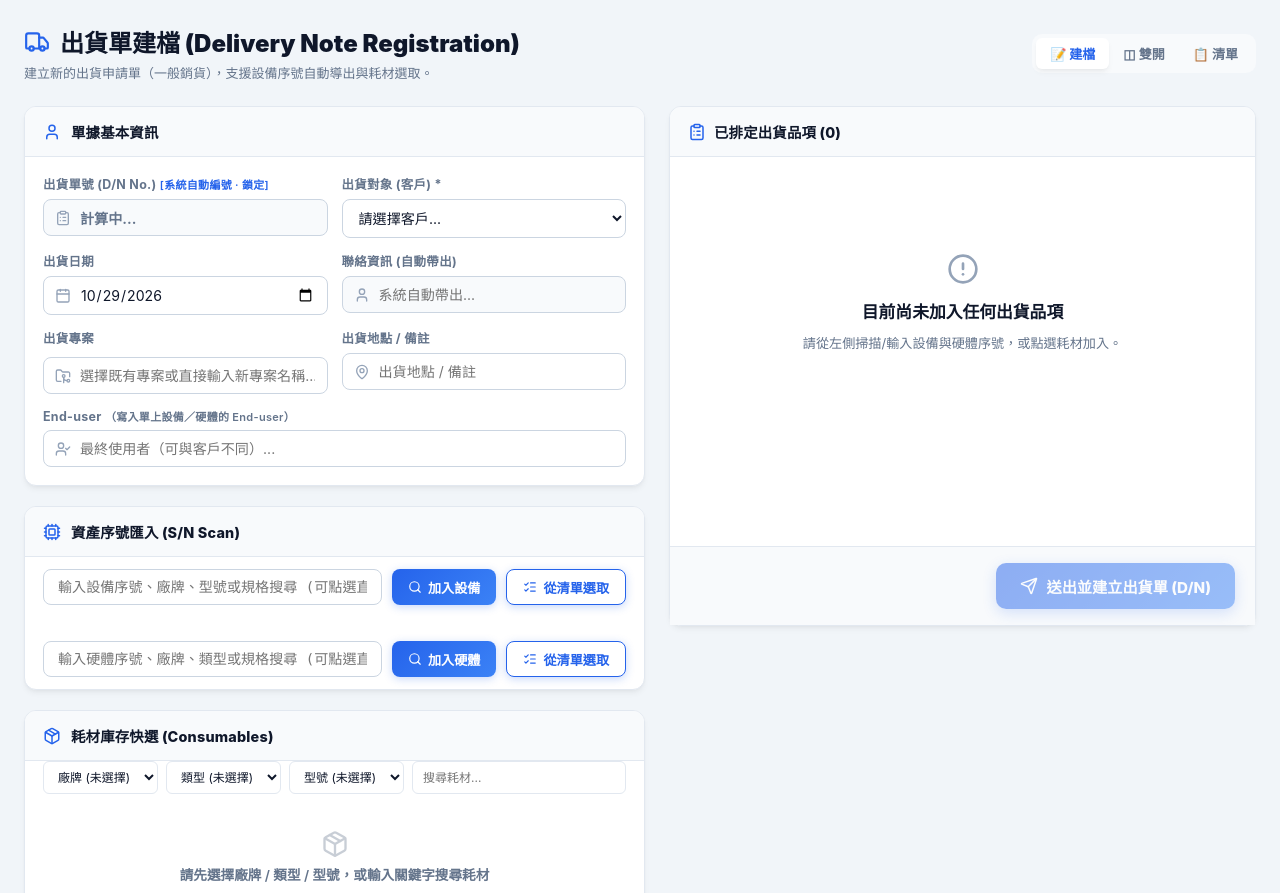
Test: Outbound 出貨時自動立案與設備專案屬性回寫功能測試 › 1. 出貨單專案欄位應支援自訂輸入新專案名稱並顯示提示標籤
Expected: the text "出貨專案" is shown, [43,329,94,347]
# 輸入一個全新專案名稱
In the field with placeholder "選擇既有專案或直接輸入新專案名稱...": point(185, 376) [43,357,328,394], type "全新高鐵專案"
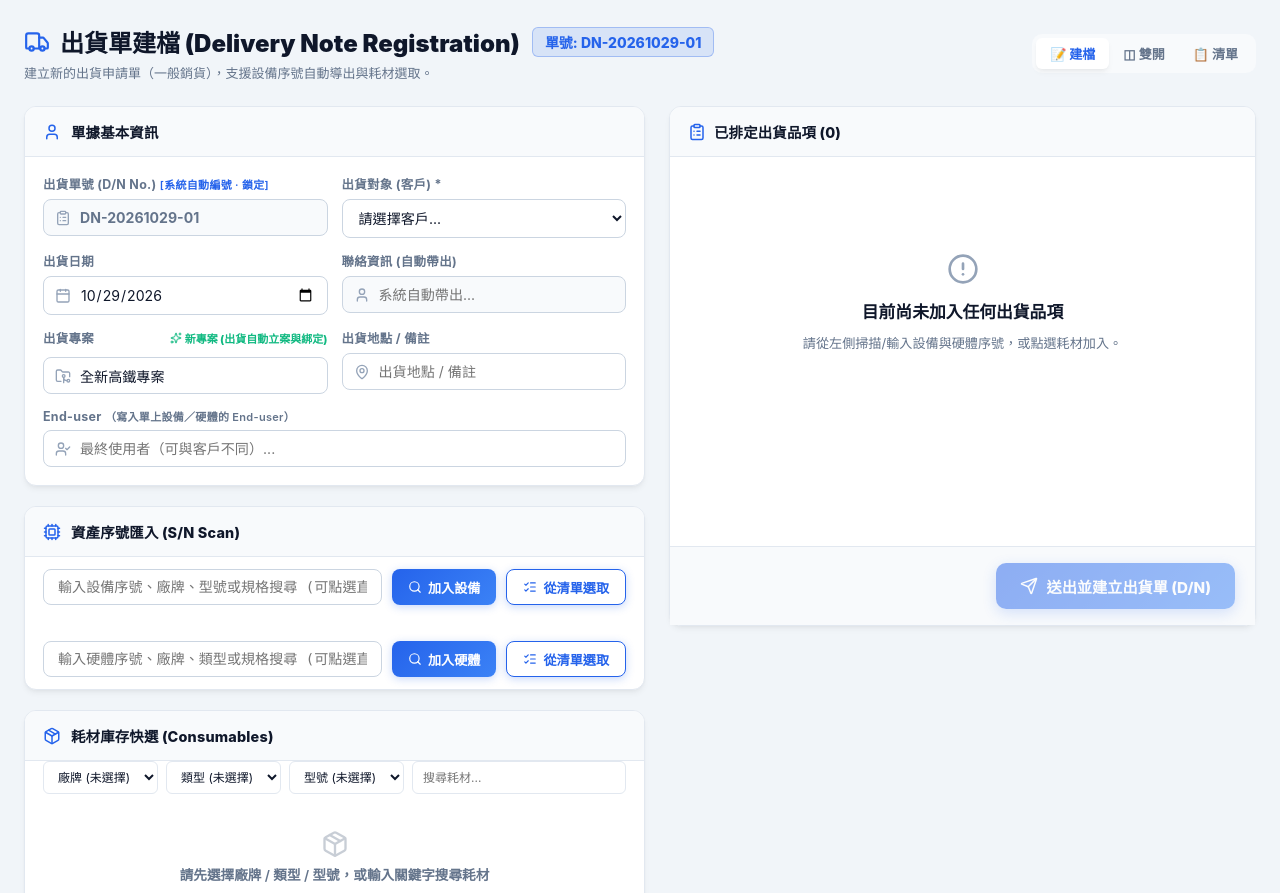
Expected: the text "新專案 (出貨自動立案與綁定)" is shown, [170,330,328,346]
